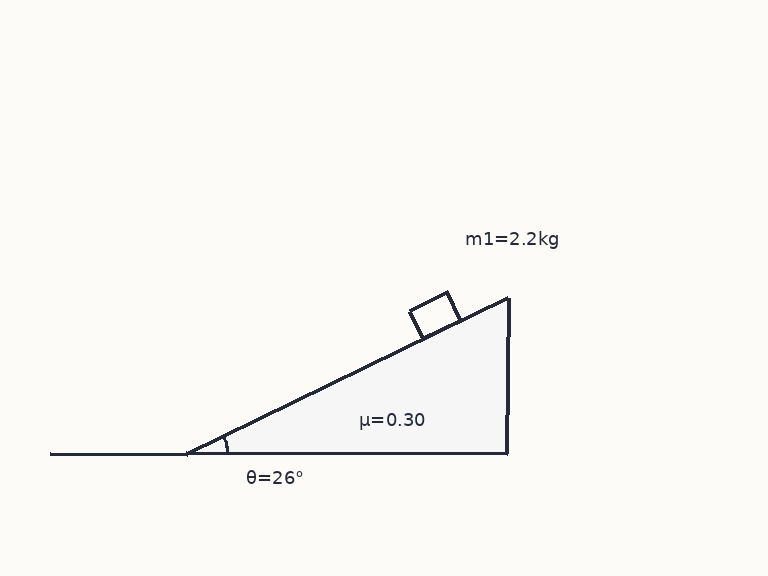block: (407, 290, 462, 340)
ramp: (185, 295, 508, 455)
